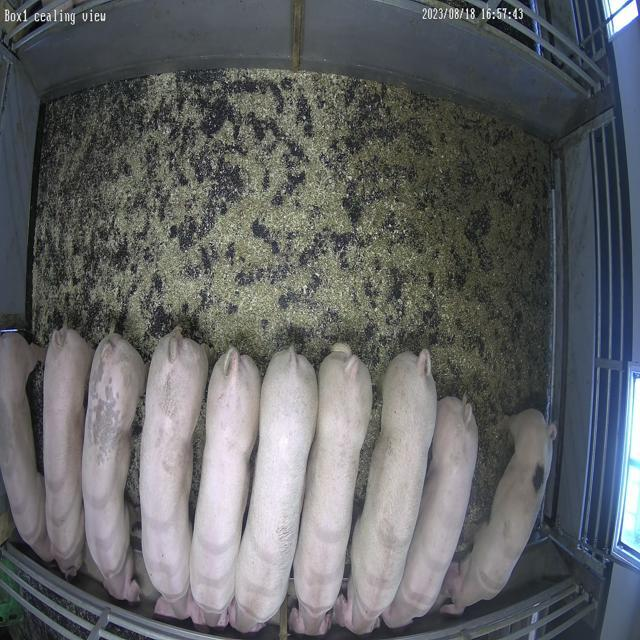Dirt: (339, 83, 551, 542)
Pig: (336, 350, 438, 636), (231, 348, 317, 634), (289, 344, 373, 636), (441, 410, 557, 616), (383, 398, 479, 630), (139, 328, 208, 620), (190, 348, 261, 628), (82, 334, 145, 602), (44, 327, 93, 577), (0, 334, 50, 562), (383, 561, 427, 630)
